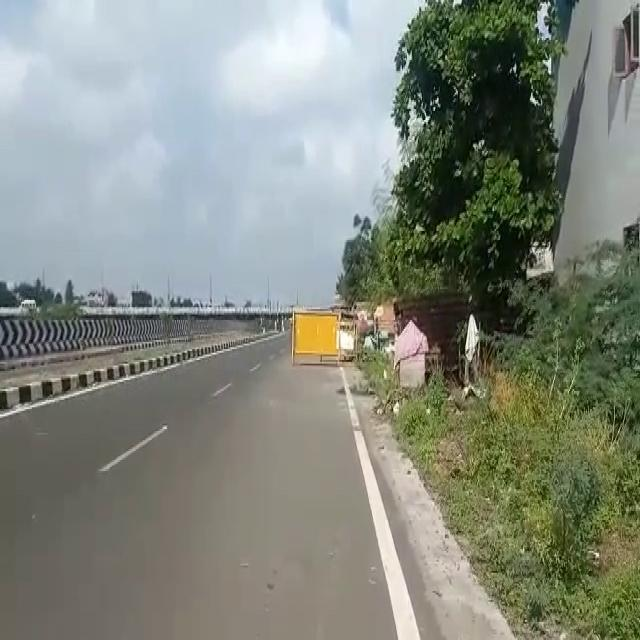fallen_object: (277, 297, 356, 375)
